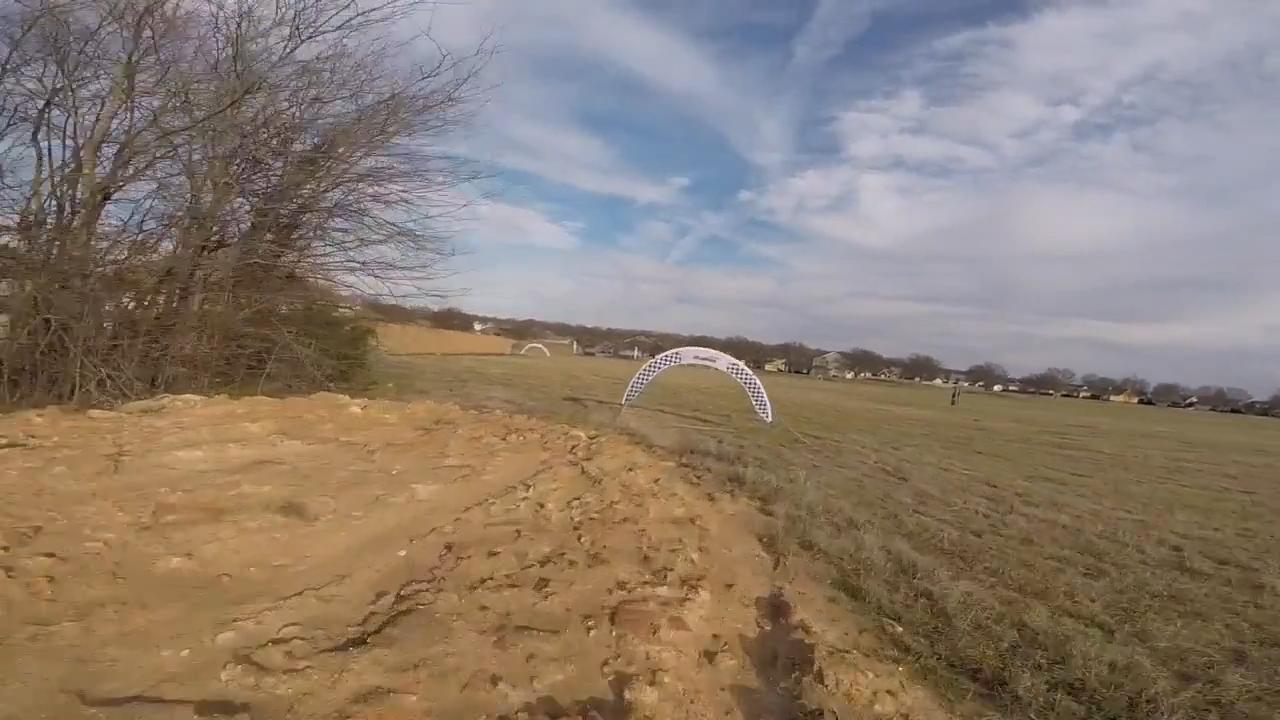gate: (621, 343, 773, 427)
